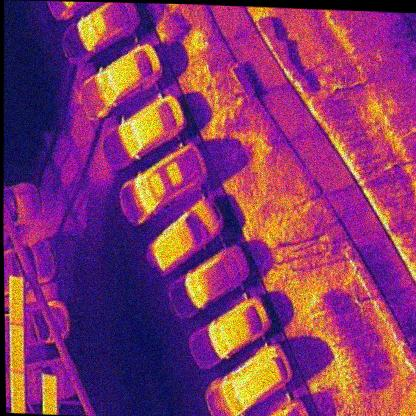Normal: (7, 274, 24, 324), (8, 324, 25, 372), (8, 372, 25, 413)
